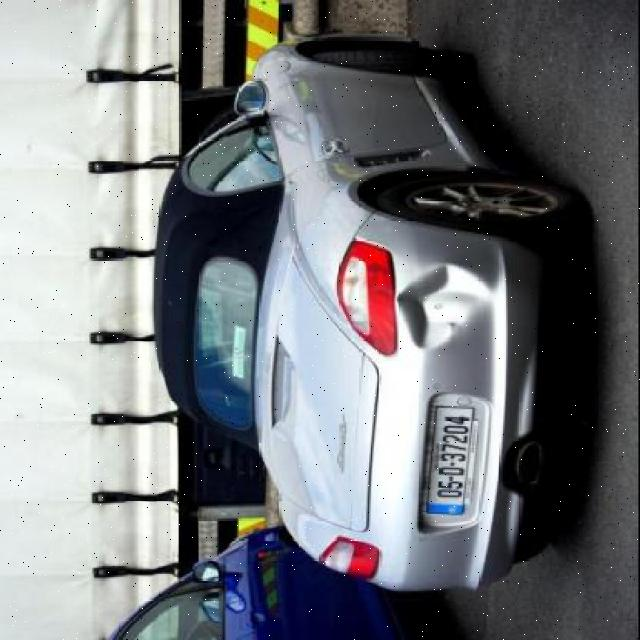damage: (396, 264, 496, 352)
